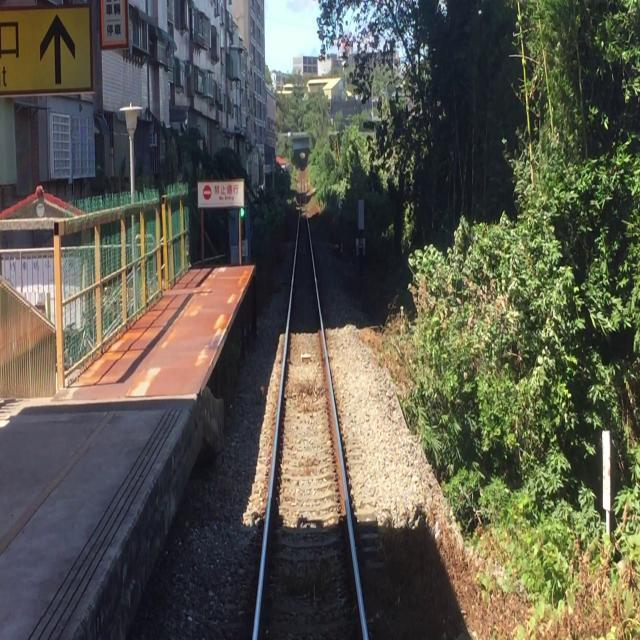rail: (227, 192, 390, 640)
